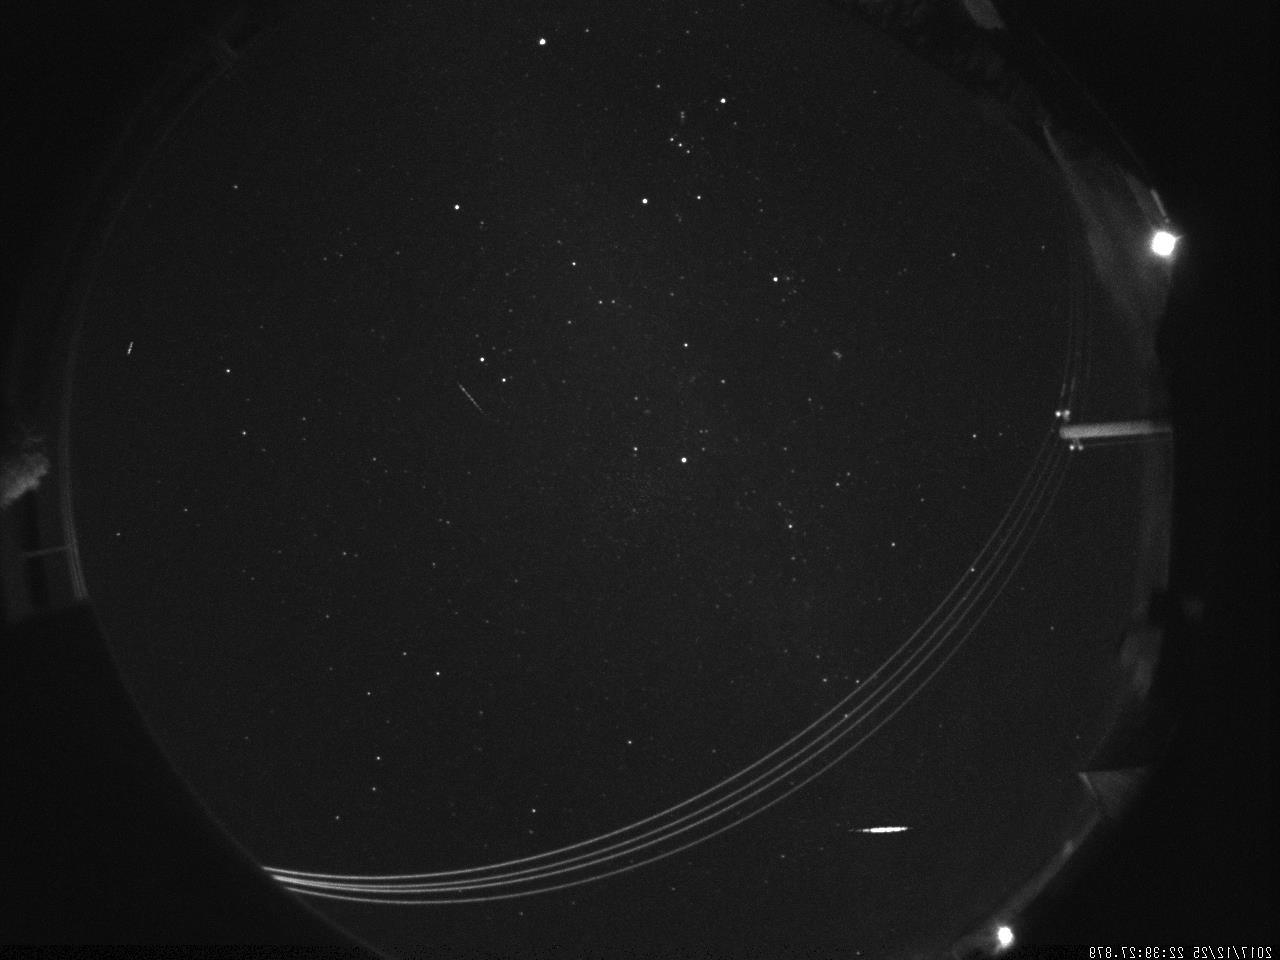meteor: (452, 384, 490, 415)
